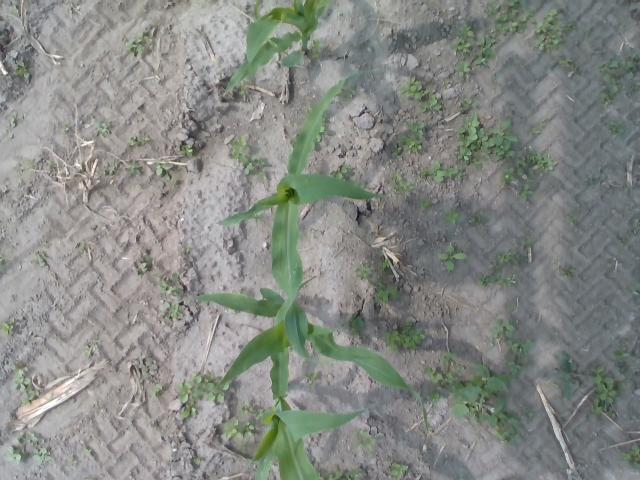Maize: (216, 68, 386, 362), (197, 286, 433, 437), (245, 308, 368, 480), (222, 0, 329, 97)
Weeds: (451, 364, 511, 428), (453, 114, 518, 172), (597, 50, 640, 106), (531, 8, 576, 55), (588, 364, 625, 418), (384, 320, 426, 354), (494, 0, 536, 34), (190, 370, 230, 404), (556, 351, 582, 398), (513, 152, 555, 180), (394, 121, 425, 158), (504, 338, 534, 374), (473, 28, 498, 68), (420, 160, 464, 182), (495, 409, 522, 444), (396, 74, 428, 100), (388, 170, 416, 198), (438, 244, 468, 270), (424, 366, 456, 390), (124, 30, 152, 57), (153, 271, 183, 296), (153, 161, 183, 186), (489, 318, 515, 346), (223, 417, 255, 439), (373, 282, 402, 304), (228, 136, 250, 164), (243, 155, 268, 179), (352, 430, 377, 454), (10, 362, 30, 391), (418, 92, 443, 112), (158, 302, 185, 320), (328, 162, 352, 182), (341, 316, 365, 336), (316, 470, 362, 480), (621, 444, 640, 468), (496, 249, 522, 266), (138, 356, 156, 380), (136, 253, 154, 276), (451, 38, 474, 55), (175, 381, 192, 404), (455, 96, 478, 112), (422, 386, 442, 404), (31, 448, 52, 465), (4, 446, 26, 462), (354, 262, 373, 280), (389, 462, 408, 480), (606, 120, 625, 138), (442, 209, 462, 226), (314, 116, 326, 144), (338, 80, 356, 98), (82, 339, 99, 358), (227, 290, 241, 313), (14, 59, 30, 79), (455, 23, 475, 39), (499, 168, 516, 186), (528, 120, 545, 138), (440, 350, 459, 366), (308, 40, 323, 60), (482, 2, 499, 19), (517, 183, 534, 200), (22, 389, 40, 405), (477, 272, 497, 286), (468, 211, 484, 228), (615, 364, 633, 379), (94, 122, 110, 138), (454, 60, 470, 76), (15, 432, 38, 443), (181, 402, 196, 418), (610, 346, 628, 359), (128, 136, 150, 146), (126, 162, 141, 176), (0, 320, 14, 335), (10, 110, 26, 123), (238, 401, 254, 414), (498, 274, 514, 287), (627, 218, 640, 234), (558, 57, 574, 70), (560, 265, 576, 277), (586, 172, 603, 183), (489, 260, 502, 274), (519, 236, 536, 246), (252, 212, 264, 226), (564, 214, 578, 226), (181, 144, 194, 156), (43, 158, 57, 169), (238, 82, 249, 96), (629, 282, 640, 296), (36, 253, 46, 268), (252, 407, 264, 419), (150, 384, 162, 396), (305, 371, 319, 381), (105, 162, 116, 174), (524, 408, 536, 419), (12, 163, 24, 173), (378, 258, 388, 270), (506, 302, 518, 312), (66, 456, 76, 468), (420, 198, 430, 208), (239, 444, 251, 452), (358, 179, 367, 188), (60, 123, 69, 132), (192, 455, 200, 465), (183, 244, 192, 252), (452, 474, 464, 480), (84, 447, 92, 456), (306, 104, 314, 112), (620, 236, 628, 244), (12, 4, 19, 13), (8, 131, 15, 140), (28, 162, 38, 168), (506, 476, 520, 480), (418, 429, 423, 435), (199, 0, 206, 4), (0, 258, 4, 265), (80, 248, 86, 252), (86, 477, 92, 480)
